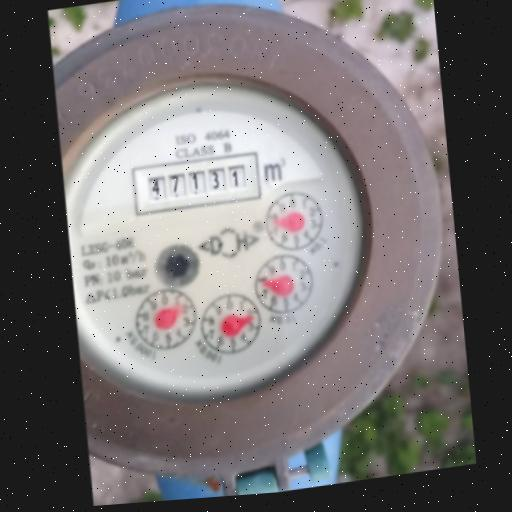1: (190, 171, 206, 195), (230, 166, 246, 189)
3: (211, 169, 225, 192)
4: (149, 177, 166, 202)
7: (170, 174, 187, 198)
border_water_meter_number: (131, 149, 262, 217)
